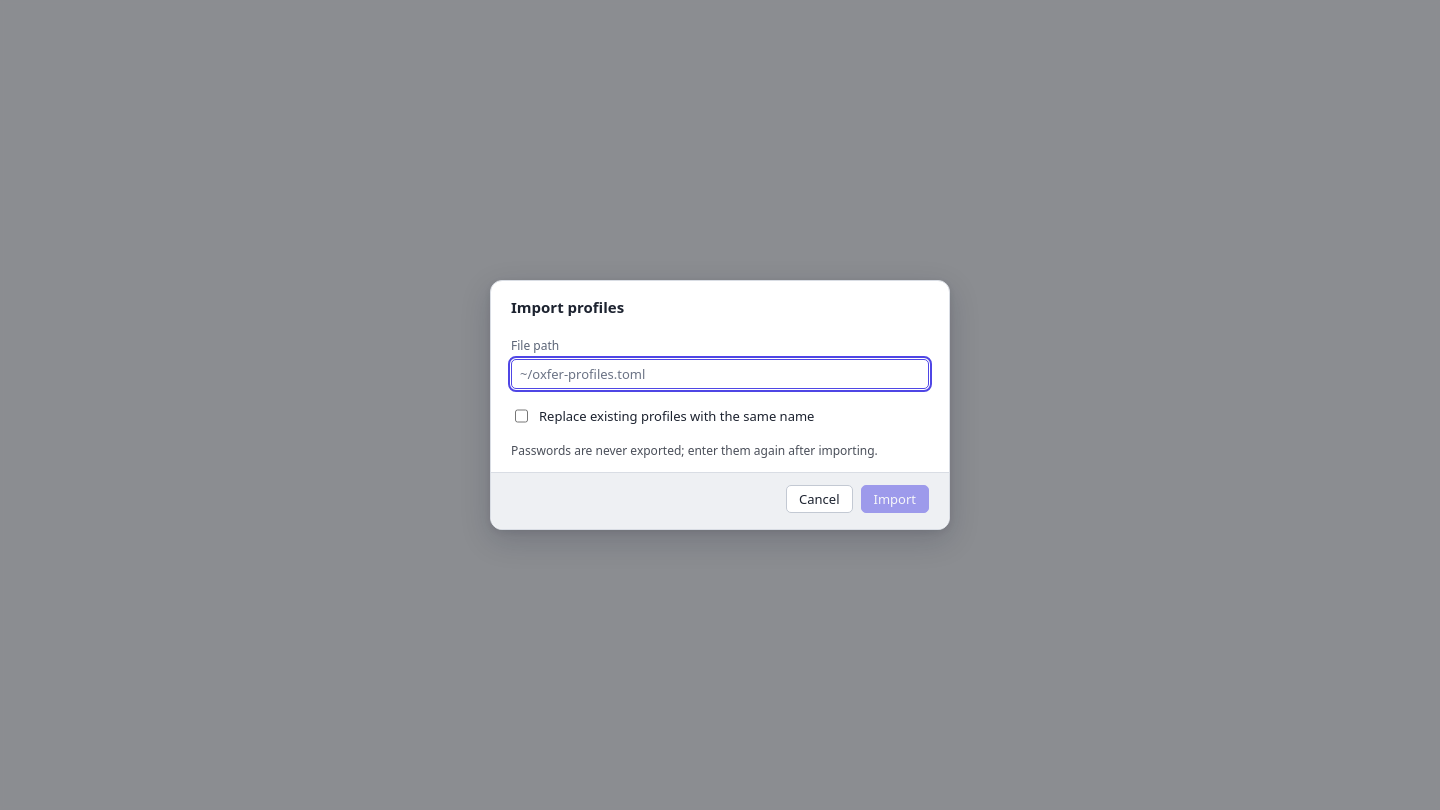
TransferConfigDialog › shows an error and stays open
Step 1. Type "/x" into the field labelled "File path" → (720, 374), box [511,359,929,389]
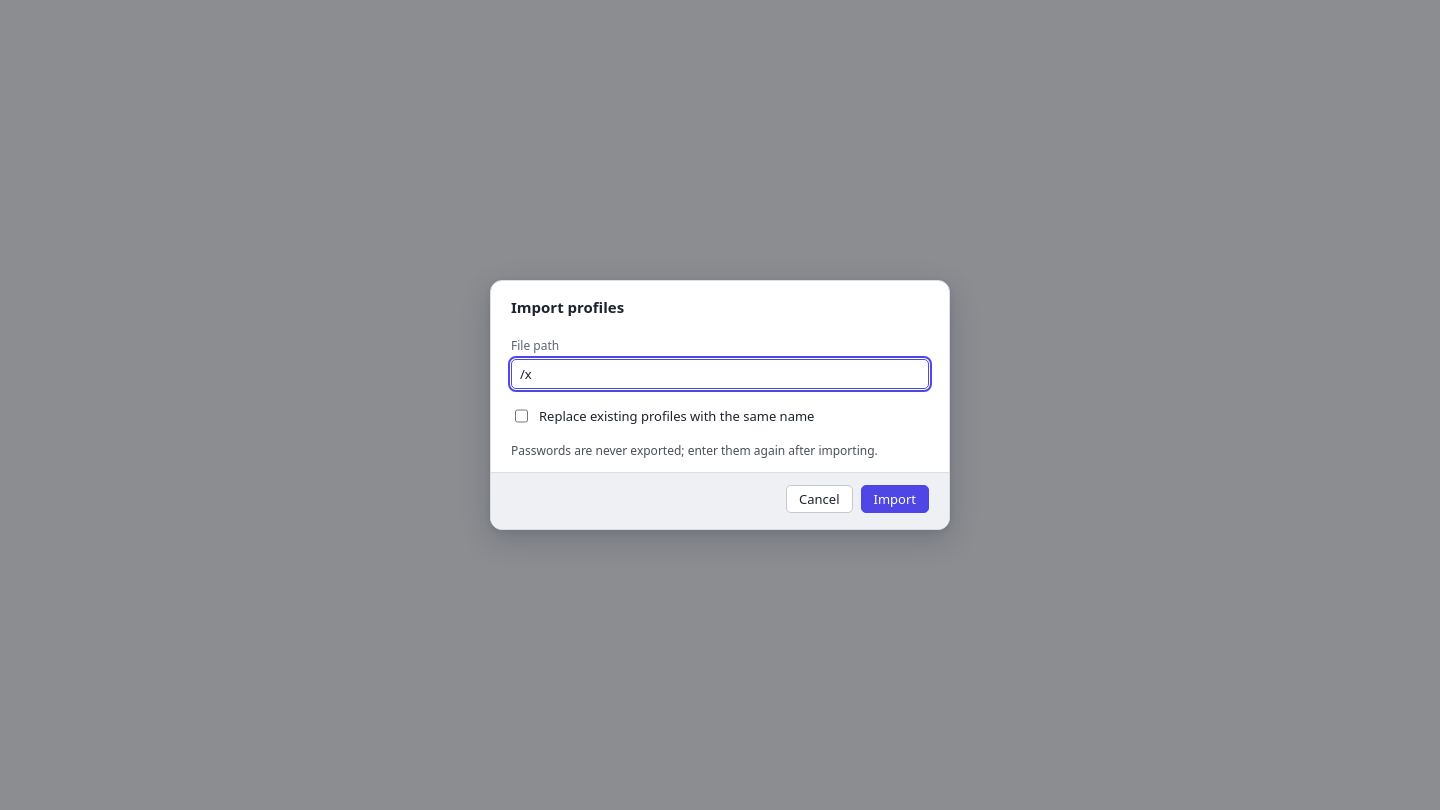
Step 2. Click the button "Import" → (895, 499), box [860,485,929,513]
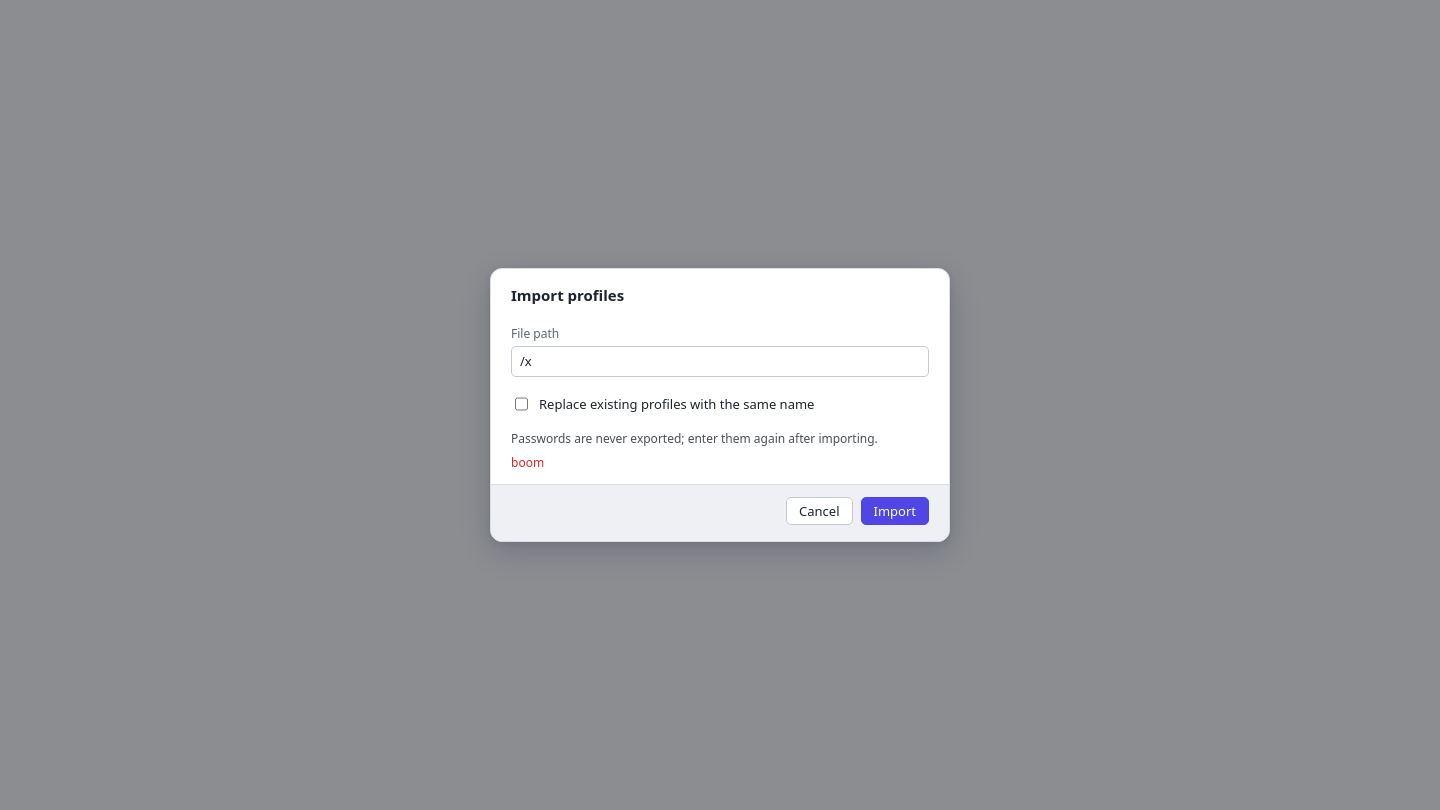
Result: the message reads "boom" at [511,454,544,471]
